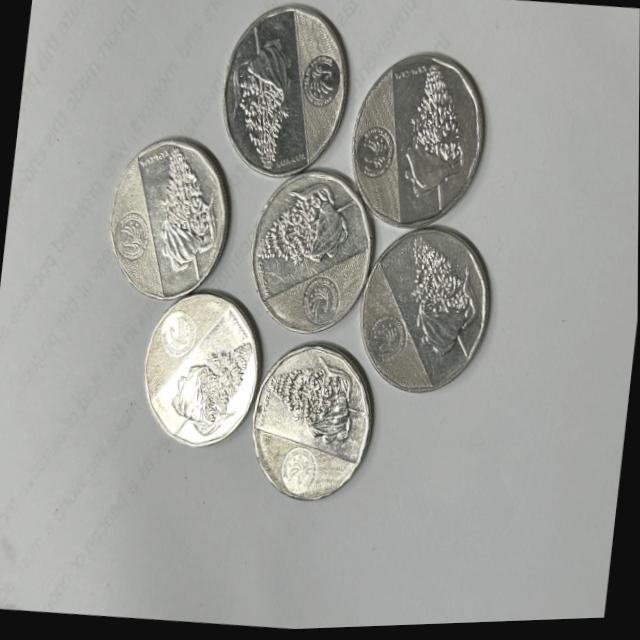10_New_Back: (394, 68, 479, 225), (141, 149, 227, 303), (254, 177, 373, 278), (211, 20, 288, 172)
